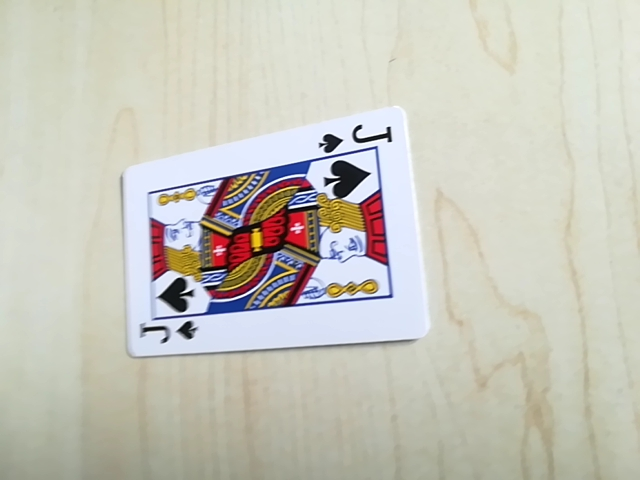ht j: (133, 310, 202, 355), (317, 121, 400, 155)
